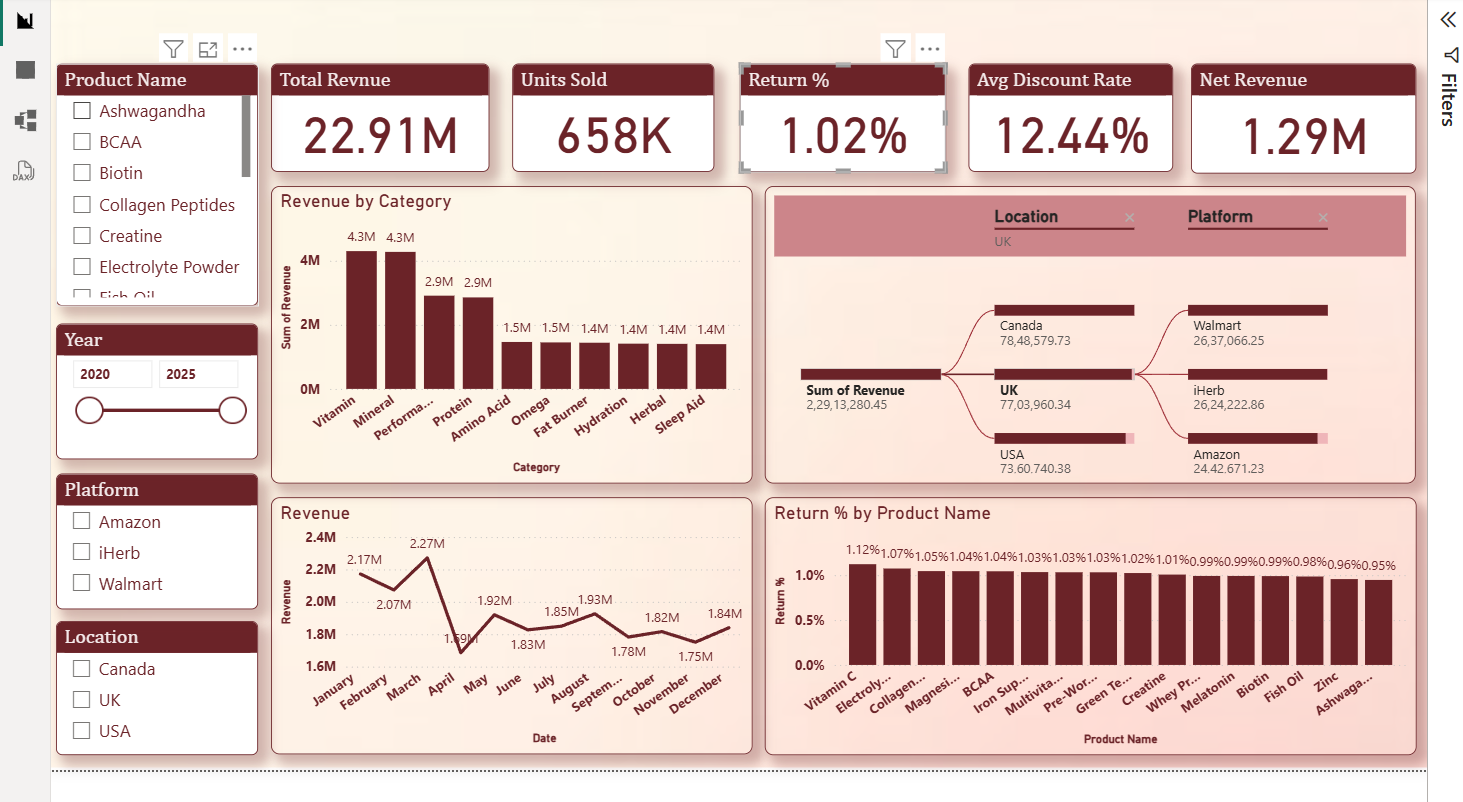

The page's visual inventory and layout, read from the dashboard file:
{"tool":"powerbi","page":{"name":"Page 1","canvas":[1280,720],"ordinal":0},"visuals":[{"type":"card","title":"Units Sold","fields":{"Values":["Sum(Predictive_Sales_Forecast.Units Sold)"]},"box":[429.1,62.8,188.4,101.2],"z":0},{"type":"card","title":"Total Revnue","fields":{"Values":["Sum(Predictive_Sales_Forecast.Revenue)"]},"box":[204.7,62.8,203.5,101.2],"z":1000},{"type":"card","title":"Avg Discount Rate","fields":{"Values":["Avg(Predictive_Sales_Forecast.Discount)"]},"box":[853.5,62.8,190.7,101.2],"z":2000},{"type":"card","title":"Net Revenue","fields":{"Values":["Predictive_Sales_Forecast.Net Revenue"]},"box":[1060.5,62.8,209.3,102.3],"z":3000},{"type":"clusteredColumnChart","title":"Revenue by Category","fields":{"Category":["Predictive_Sales_Forecast.Category"],"Y":["Sum(Predictive_Sales_Forecast.Revenue)"]},"box":[204.7,176.7,447.7,276.7],"z":4000},{"type":"lineChart","title":"Revenue","fields":{"Category":["Predictive_Sales_Forecast.Date.Variation.Date Hierarchy.Year","Predictive_Sales_Forecast.Date.Variation.Date Hierarchy.Month","Predictive_Sales_Forecast.Date.Variation.Date Hierarchy.Day"],"Y":["Sum(Predictive_Sales_Forecast.Revenue)"]},"box":[204.7,466.3,447.7,239.5],"z":5000},{"type":"slicer","title":"Location","fields":{"Values":["Predictive_Sales_Forecast.Location"]},"box":[4.9,581.4,188.4,124.4],"z":6000},{"type":"slicer","title":"Platform","fields":{"Values":["Predictive_Sales_Forecast.Platform"]},"box":[4.9,444.2,188.4,126.7],"z":7000},{"type":"slicer","title":"Year","fields":{"Values":["Predictive_Sales_Forecast.Date.Variation.Date Hierarchy.Year"]},"box":[4.9,304.7,188.4,126.7],"z":8000},{"type":"card","title":"Return %","fields":{"Values":["Predictive_Sales_Forecast.Return %"]},"box":[640.7,62.8,191.9,101.2],"z":9000},{"type":"decompositionTreeVisual","fields":{"Analyze":["Sum(Predictive_Sales_Forecast.Revenue)"],"ExplainBy":["Predictive_Sales_Forecast.Location","Predictive_Sales_Forecast.Platform"]},"box":[664,176.7,605.8,276.7],"z":10000},{"type":"slicer","title":"Product Name","fields":{"Values":["Predictive_Sales_Forecast.Product Name"]},"box":[4.7,62.8,188.4,225.6],"z":11000},{"type":"columnChart","fields":{"Y":["Predictive_Sales_Forecast.Return %"],"Category":["Predictive_Sales_Forecast.Product Name"]},"box":[664,466,606,240],"z":11001}]}

Visuals, with their boxes on the page's 1280x720 design canvas (x1, y1, x2, y2). These are canvas units, not pixel positions in the 1463x802 screenshot, which may show the page scaled, cropped or inside an application window:
"Units Sold" card: x1=429, y1=63, x2=618, y2=164
"Total Revnue" card: x1=205, y1=63, x2=408, y2=164
"Avg Discount Rate" card: x1=854, y1=63, x2=1044, y2=164
"Net Revenue" card: x1=1060, y1=63, x2=1270, y2=165
"Revenue by Category" clusteredColumnChart: x1=205, y1=177, x2=652, y2=453
"Revenue" lineChart: x1=205, y1=466, x2=652, y2=706
"Location" slicer: x1=5, y1=581, x2=193, y2=706
"Platform" slicer: x1=5, y1=444, x2=193, y2=571
"Year" slicer: x1=5, y1=305, x2=193, y2=431
"Return %" card: x1=641, y1=63, x2=833, y2=164
decompositionTreeVisual - Sum(Predictive_Sales_Forecast.Revenue) x Predictive_Sales_Forecast.Location: x1=664, y1=177, x2=1270, y2=453
"Product Name" slicer: x1=5, y1=63, x2=193, y2=288
columnChart - Predictive_Sales_Forecast.Return % x Predictive_Sales_Forecast.Product Name: x1=664, y1=466, x2=1270, y2=706
